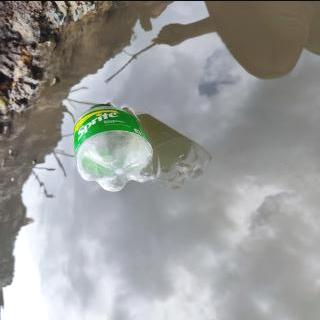bottle: (72, 101, 158, 192)
